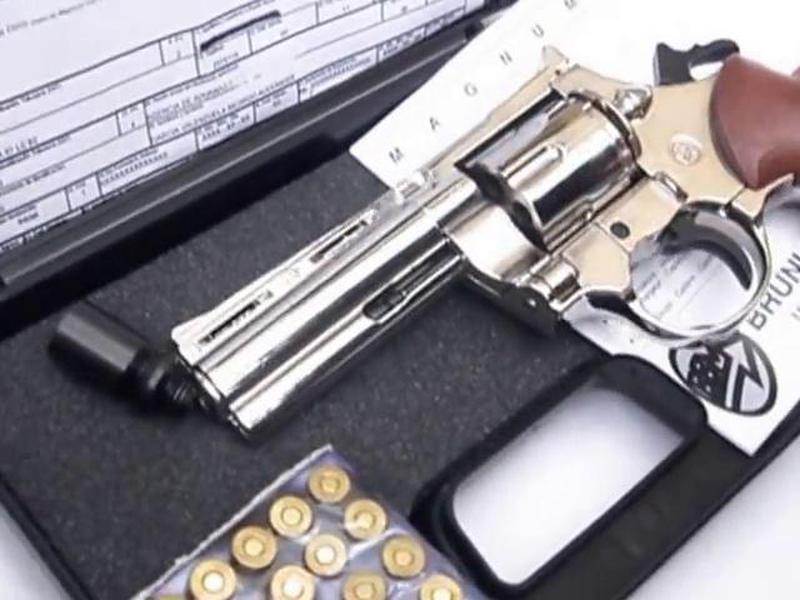Revolver: (174, 41, 800, 424)
